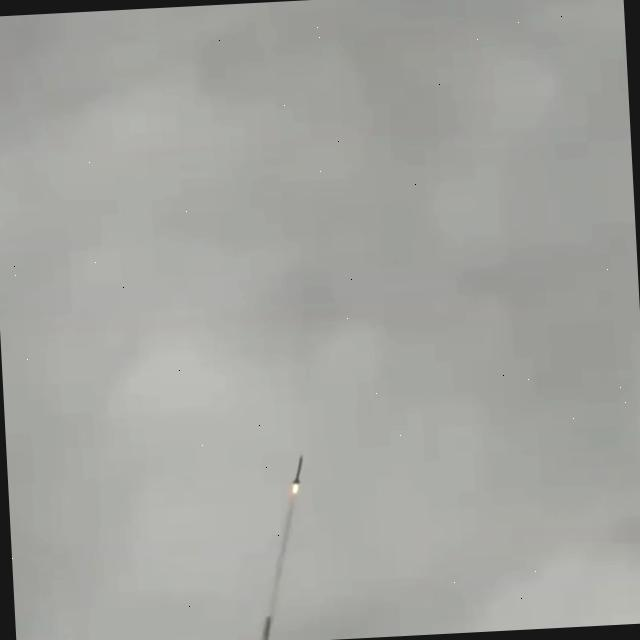smoke_trail_with_rocket: (258, 455, 304, 640)
